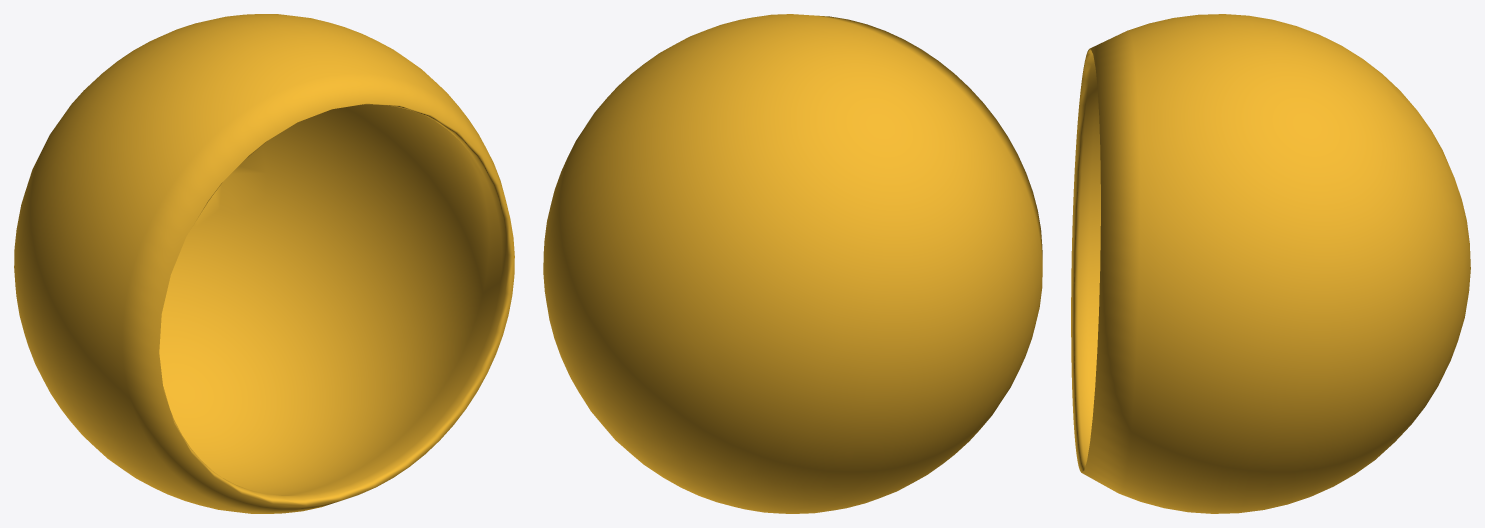
Rendered from nervoso-retina-l.glb.
The picture shows the model from 3 angles, left to right: view 1: azimuth 30°, elevation 25°; view 2: azimuth 150°, elevation 25°; view 3: azimuth 270°, elevation 25°; orthographic projection.
Visible parts, largest first — view 1: Retina.l; view 2: Retina.l; view 3: Retina.l.
Boxes of the visible parts, x1,y1,x2,y2 form: Retina.l: (14,14,514,513); Retina.l: (543,14,1042,513); Retina.l: (1071,14,1470,513).
Size of the model in its own units: 0.0217 by 0.0217 by 0.0174.
